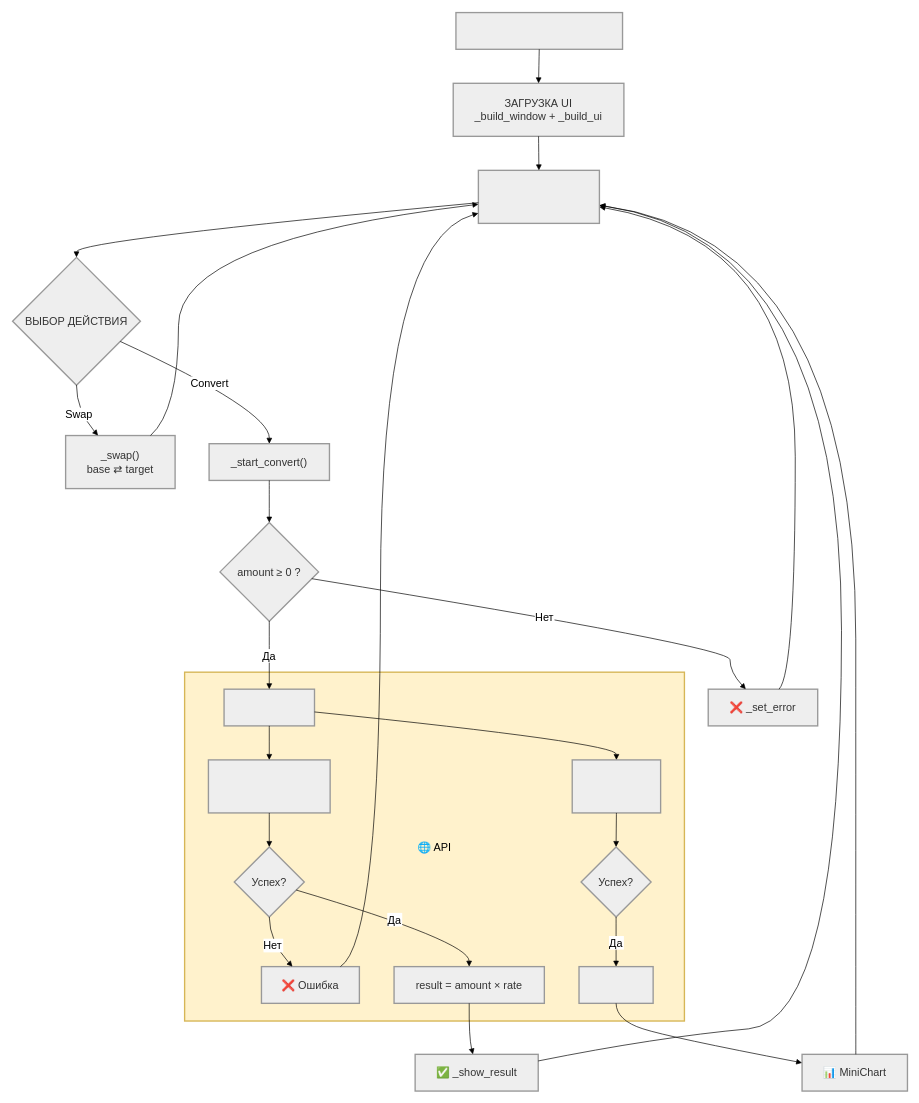
Image size: 919x1103. Some labels were removed from this diagram. Here are the shapes that lost their labels. From the top down, the centre of each, then its label:
At point (539, 31): "▶ ЗАПУСК ПРИЛОЖЕНИЯ".
At point (538, 196): "ГЛАВНЫЙ ЦИКЛ mainloop".
At point (269, 707): "🧵 _fetch".
At point (268, 786): "КУРС open.er-api.com".
At point (616, 786): "ИСТОРИЯ fxapi.app".
At point (615, 985): "7 дней".
